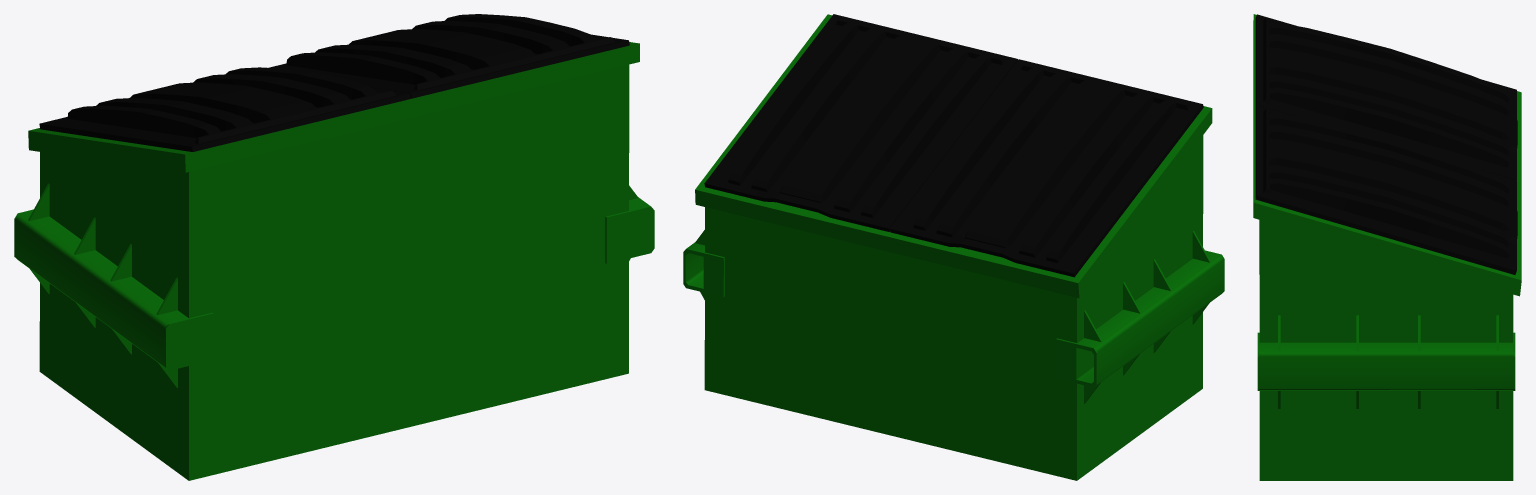
The model's file is Dumpster.fbx.
3 renders of one model, left to right at view 1: azimuth 30°, elevation 25°; view 2: azimuth 150°, elevation 25°; view 3: azimuth 270°, elevation 25°, orthographic. The views are drawn at different scales.
Parts seen in each view (by area): view 1: polySurface20, Dumpster_Lid_1, polySurface21, polySurface11; view 2: polySurface20, Dumpster_Lid_1, polySurface21, polySurface11; view 3: polySurface20, Dumpster_Lid_1, polySurface21, polySurface11.
Boxes of the visible parts, x1,y1,x2,y2 form: polySurface20: (28, 42, 639, 480); Dumpster_Lid_1: (39, 14, 629, 151); polySurface21: (14, 197, 654, 370); polySurface11: (28, 183, 638, 387); polySurface20: (695, 14, 1212, 480); Dumpster_Lid_1: (704, 14, 1203, 277); polySurface21: (683, 242, 1224, 387); polySurface11: (695, 230, 1210, 403); polySurface20: (1253, 14, 1521, 480); Dumpster_Lid_1: (1255, 14, 1517, 274); polySurface21: (1257, 332, 1515, 390); polySurface11: (1278, 315, 1498, 408).
Size of the model in its own units: 11.11 by 7.33 by 6.22.
